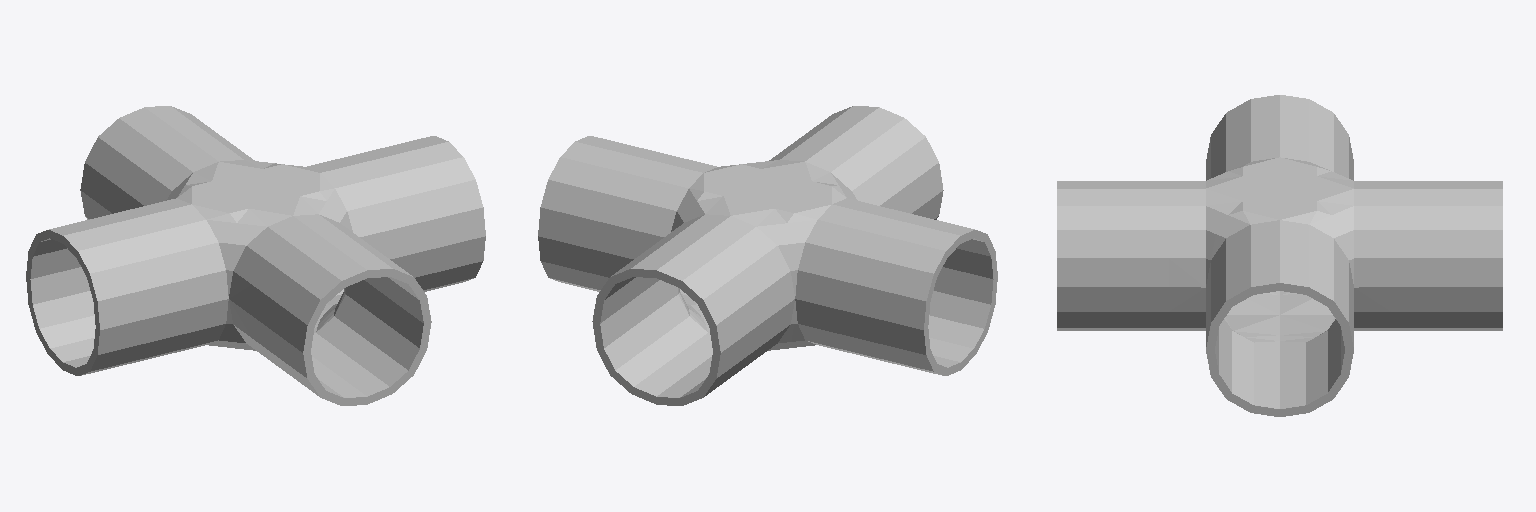
Rendered from CrossPipe.obj.
3 views of the same model, side by side, from view 1: azimuth 30°, elevation 25°; view 2: azimuth 150°, elevation 25°; view 3: azimuth 270°, elevation 25° (orthographic).
Visible parts, largest first — view 1: Cross_pipe_Cube.004; view 2: Cross_pipe_Cube.004; view 3: Cross_pipe_Cube.004.
Boxes of the visible parts, x1,y1,x2,y2 form: Cross_pipe_Cube.004: [26, 106, 485, 405]; Cross_pipe_Cube.004: [538, 106, 997, 405]; Cross_pipe_Cube.004: [1057, 95, 1502, 416].
Bounding box in the file's own units: 1.97 × 0.6554 × 1.97.